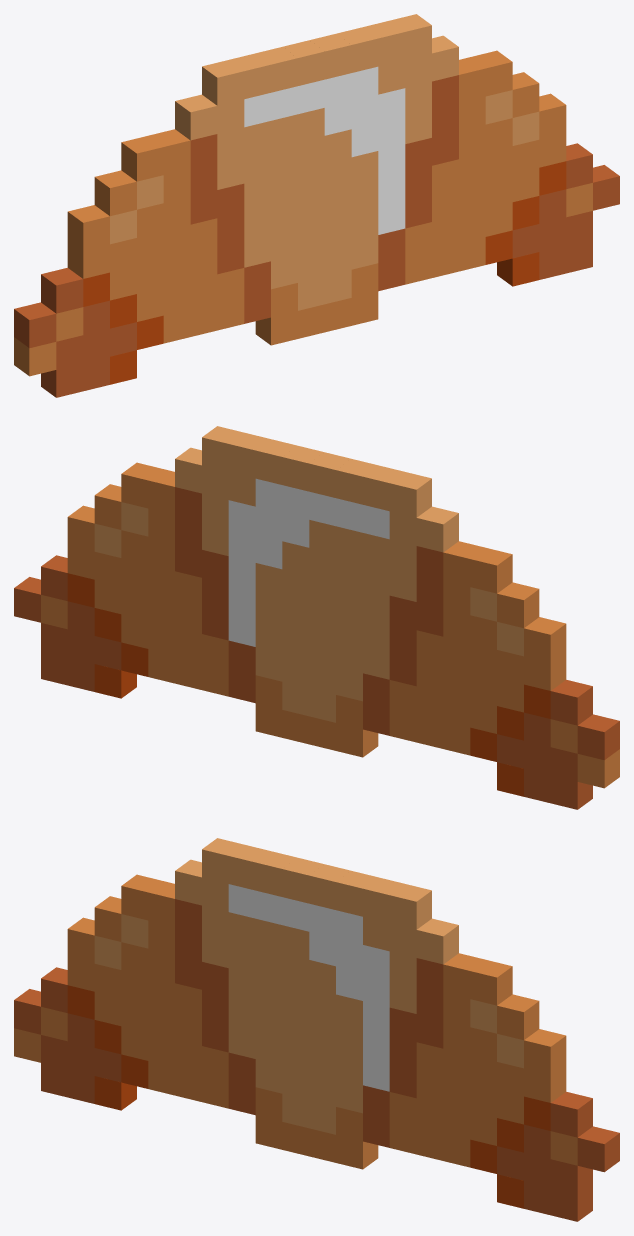
Rendered from p_kruvasan_voxel.fbx.
The picture shows the model from 3 angles, top to bottom: view 1: azimuth 30°, elevation 25°; view 2: azimuth 150°, elevation 25°; view 3: azimuth 330°, elevation 25°; orthographic projection.
Visible parts, largest first — view 1: Kruvasan.voxel_.086, Kruvasan.voxel_.074, Kruvasan.voxel_.093, Kruvasan.voxel_.109, Kruvasan.voxel_.070, Kruvasan.voxel_.118, Kruvasan.voxel_.080, Kruvasan.voxel_.069, Kruvasan.voxel_.079, Kruvasan.voxel_.068, Kruvasan.voxel_.024, Kruvasan.voxel_.100 (+145 smaller); view 2: Kruvasan.voxel_.086, Kruvasan.voxel_.074, Kruvasan.voxel_.093, Kruvasan.voxel_.109, Kruvasan.voxel_.070, Kruvasan.voxel_.118, Kruvasan.voxel_.080, Kruvasan.voxel_.069, Kruvasan.voxel_.079, Kruvasan.voxel_.068, Kruvasan.voxel_.024, Kruvasan.voxel_.100 (+145 smaller); view 3: Kruvasan.voxel_.017, Kruvasan.voxel_.005, Kruvasan.voxel_.024, Kruvasan.voxel_.040, Kruvasan.voxel_.001, Kruvasan.voxel_.049, Kruvasan.voxel_.011, Kruvasan.voxel_.002, Kruvasan.voxel_.010, Kruvasan.voxel_.137, Kruvasan.voxel_.031, Kruvasan.voxel_.093 (+145 smaller).
Boxes of the visible parts, x1,y1,x2,y2 form: Kruvasan.voxel_.086: (94, 170, 136, 216); Kruvasan.voxel_.074: (41, 267, 83, 313); Kruvasan.voxel_.093: (121, 136, 163, 181); Kruvasan.voxel_.109: (175, 94, 217, 140); Kruvasan.voxel_.070: (14, 302, 56, 348); Kruvasan.voxel_.118: (202, 60, 244, 105); Kruvasan.voxel_.080: (67, 205, 109, 250); Kruvasan.voxel_.069: (14, 337, 56, 376); Kruvasan.voxel_.079: (67, 240, 109, 278); Kruvasan.voxel_.068: (336, 27, 378, 72); Kruvasan.voxel_.024: (470, 50, 512, 96); Kruvasan.voxel_.100: (148, 129, 190, 174); Kruvasan.voxel_.086: (497, 582, 539, 628); Kruvasan.voxel_.074: (550, 679, 592, 725); Kruvasan.voxel_.093: (470, 548, 512, 593); Kruvasan.voxel_.109: (416, 506, 458, 552); Kruvasan.voxel_.070: (577, 714, 619, 760); Kruvasan.voxel_.118: (389, 472, 431, 517); Kruvasan.voxel_.080: (524, 617, 566, 662); Kruvasan.voxel_.069: (577, 749, 619, 788); Kruvasan.voxel_.079: (524, 652, 566, 690); Kruvasan.voxel_.068: (255, 439, 297, 484); Kruvasan.voxel_.024: (121, 462, 163, 508); Kruvasan.voxel_.100: (443, 541, 485, 586); Kruvasan.voxel_.017: (497, 994, 539, 1040); Kruvasan.voxel_.005: (550, 1091, 592, 1137); Kruvasan.voxel_.024: (470, 960, 512, 1005); Kruvasan.voxel_.040: (416, 918, 458, 964); Kruvasan.voxel_.001: (577, 1126, 619, 1172); Kruvasan.voxel_.049: (389, 884, 431, 929); Kruvasan.voxel_.011: (524, 1029, 566, 1074); Kruvasan.voxel_.002: (550, 1183, 592, 1221); Kruvasan.voxel_.010: (524, 1064, 566, 1102); Kruvasan.voxel_.137: (255, 851, 297, 896); Kruvasan.voxel_.031: (443, 953, 485, 998); Kruvasan.voxel_.093: (121, 874, 163, 920).
Bounding box in the file's own units: 2.19 × 0.9971 × 0.0997.
